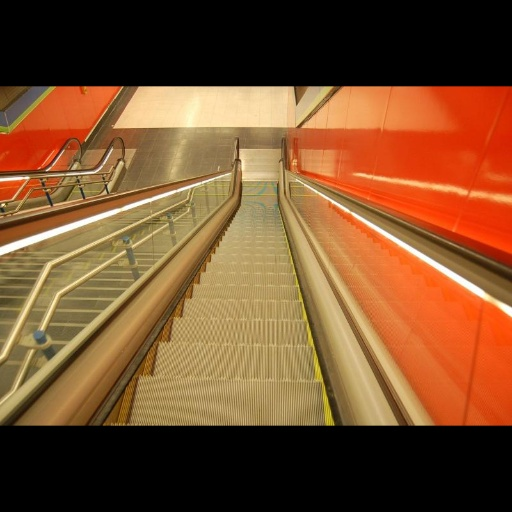Stairs: (105, 182, 333, 425)
